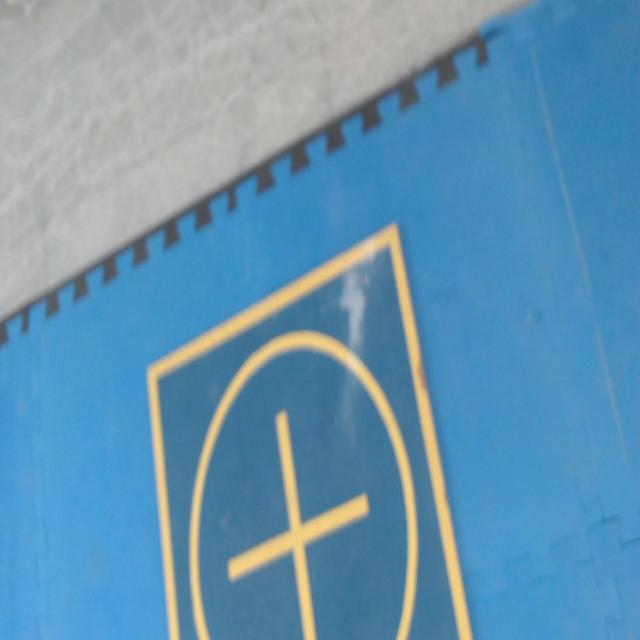base_pouso: (145, 219, 475, 639)
